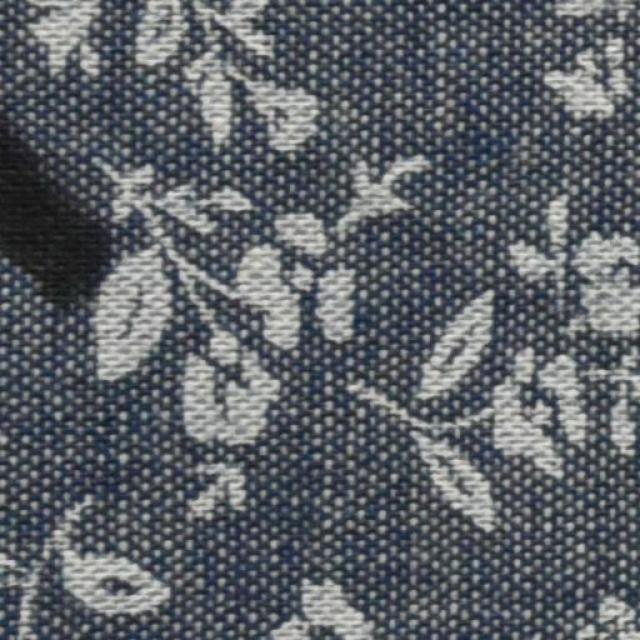Stain: (0, 112, 129, 305)
